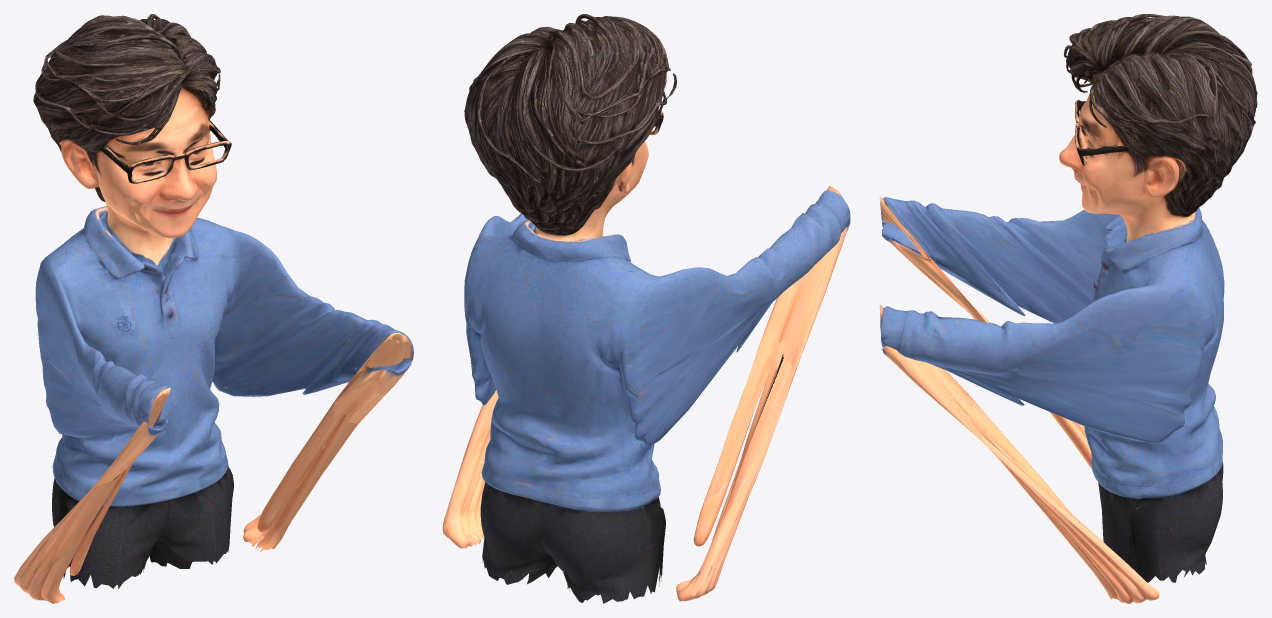
The model's file is staff-lee.glb.
3 views of the same model, side by side, from view 1: azimuth 30°, elevation 25°; view 2: azimuth 150°, elevation 25°; view 3: azimuth 270°, elevation 25° (orthographic). The views are drawn at different scales.
Visible parts, largest first — view 1: staff-lee-운전자; view 2: staff-lee-운전자; view 3: staff-lee-운전자.
Part boxes in pixels (<box>): staff-lee-운전자: <box>14,14,413,603</box>; staff-lee-운전자: <box>442,14,850,603</box>; staff-lee-운전자: <box>879,14,1257,603</box>.
Size of the model in its own units: 0.5777 by 1.1 by 0.7191.
Materials: 1 (1 with a texture image).
